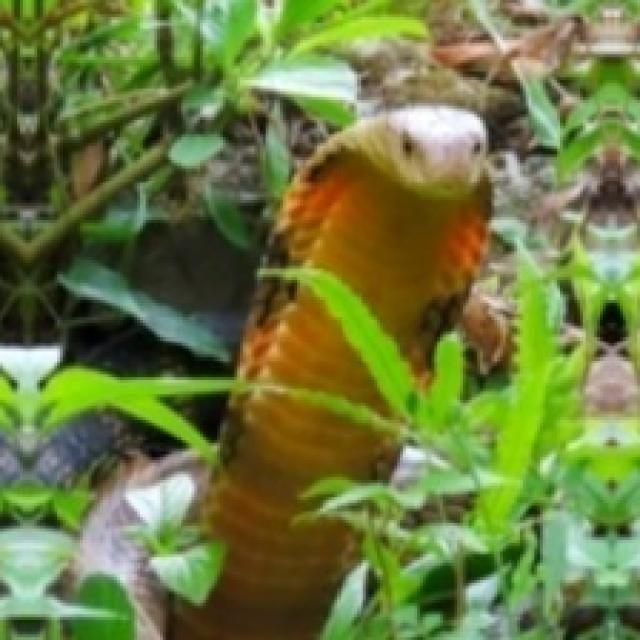king cobra: (171, 283, 397, 637), (277, 106, 489, 374)
